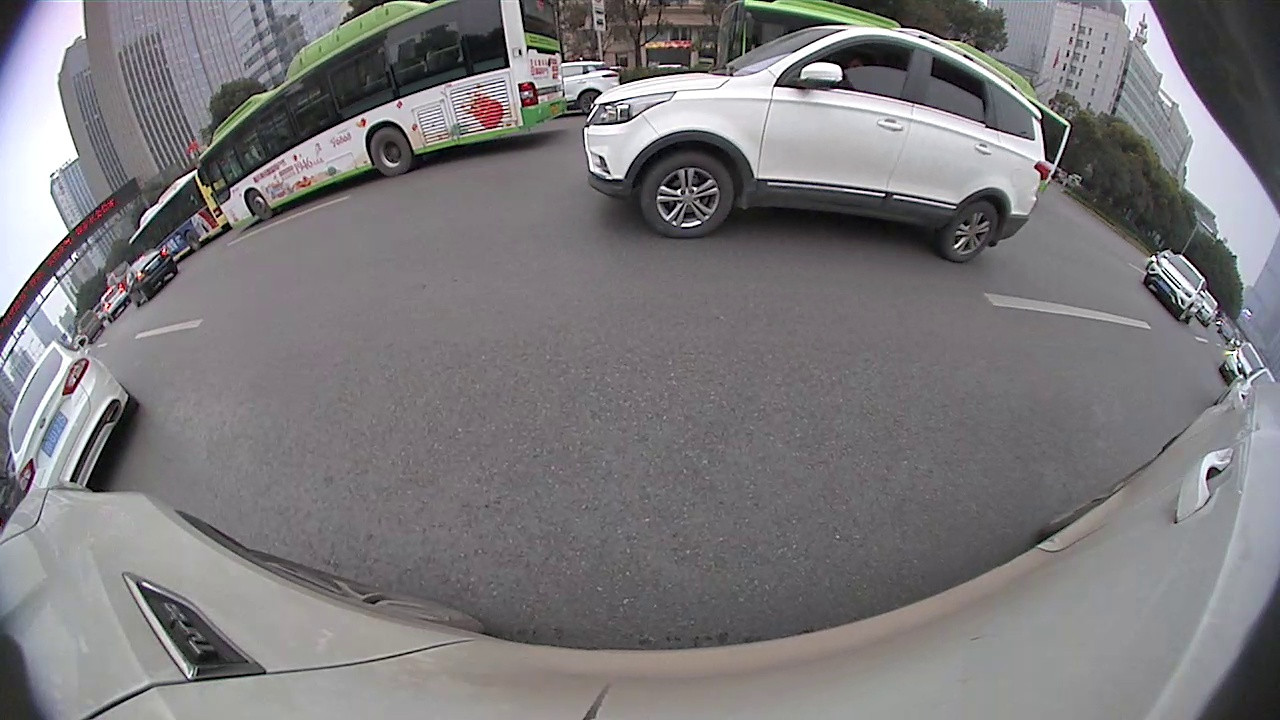bus: (193, 2, 570, 222)
car: (582, 18, 1048, 267), (11, 337, 131, 500), (1143, 251, 1209, 324)
front: (638, 149, 738, 238), (244, 188, 273, 223)
rear: (942, 198, 1001, 264), (366, 126, 414, 177), (578, 89, 601, 115), (185, 230, 201, 251)
